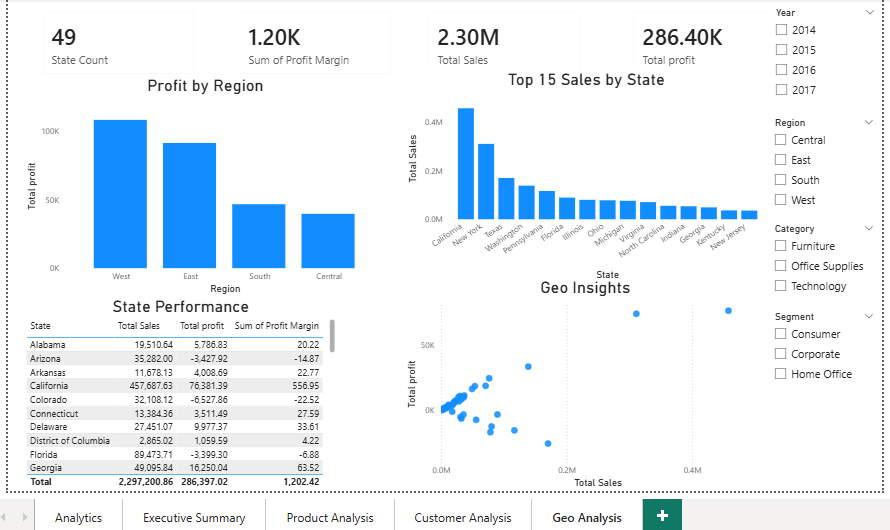

What the dashboard file says about the page in this screenshot:
{"tool":"powerbi","page":{"name":"Geo Analysis","canvas":[1280,720],"ordinal":4},"visuals":[{"type":"cardVisual","title":"Monthly Sales Trend","fields":{"Data":["Calendar.State Count"]},"box":[33.6,1.7,255.3,126],"z":0},{"type":"cardVisual","title":"Monthly Sales Trend","fields":{"Data":["Sum(powerBiNew.Profit Margin)"]},"box":[322.5,1.7,255.3,126],"z":1000},{"type":"cardVisual","title":"Monthly Sales Trend","fields":{"Data":["powerBiNew.Total Sales"]},"box":[598,1.7,255.3,126],"z":2000},{"type":"cardVisual","title":"Monthly Sales Trend","fields":{"Data":["powerBiNew.Total profit"]},"box":[898.7,1.7,255.3,126],"z":3000},{"type":"clusteredColumnChart","title":"Top 15 Sales by State","fields":{"Category":["powerBiNew.State"],"Y":["powerBiNew.Total Sales"]},"box":[579.5,104.1,534.2,312.4],"z":4000},{"type":"lineClusteredColumnComboChart","title":"Profit by Region","fields":{"Category":["powerBiNew.Region"],"Y":["powerBiNew.Total profit"]},"box":[21.8,112.5,534.2,324.2],"z":5000},{"type":"scatterChart","title":"Geo Insights","fields":{"Category":["powerBiNew.State"],"X":["powerBiNew.Total Sales"],"Y":["powerBiNew.Total profit"]},"box":[577.8,408.2,534.2,312.4],"z":6000},{"type":"tableEx","title":"State Performance","fields":{"Values":["powerBiNew.State","powerBiNew.Total Sales","powerBiNew.Total profit","Sum(powerBiNew.Profit Margin)"]},"box":[21.8,436.7,461.9,283.9],"z":7000},{"type":"slicer","fields":{"Values":["Calendar.Year"]},"box":[1110.7,7.3,169.8,267.8],"z":8000},{"type":"slicer","fields":{"Values":["powerBiNew.Region"]},"box":[1108.7,168,169.7,268.8],"z":9000},{"type":"slicer","fields":{"Values":["powerBiNew.Category"]},"box":[1109.3,323.4,169.8,267.8],"z":10000},{"type":"slicer","fields":{"Values":["powerBiNew.Segment"]},"box":[1109.3,452.2,169.8,267.8],"z":10001}]}

Visuals, with their boxes on the page's 1280x720 design canvas (x1, y1, x2, y2). These are canvas units, not pixel positions in the 890x530 screenshot, which may show the page scaled, cropped or inside an application window:
"Monthly Sales Trend" cardVisual: locate(34, 2, 289, 128)
"Monthly Sales Trend" cardVisual: locate(322, 2, 578, 128)
"Monthly Sales Trend" cardVisual: locate(598, 2, 853, 128)
"Monthly Sales Trend" cardVisual: locate(899, 2, 1154, 128)
"Top 15 Sales by State" clusteredColumnChart: locate(580, 104, 1114, 416)
"Profit by Region" lineClusteredColumnComboChart: locate(22, 112, 556, 437)
"Geo Insights" scatterChart: locate(578, 408, 1112, 721)
"State Performance" tableEx: locate(22, 437, 484, 721)
slicer - Calendar.Year: locate(1111, 7, 1280, 275)
slicer - powerBiNew.Region: locate(1109, 168, 1278, 437)
slicer - powerBiNew.Category: locate(1109, 323, 1279, 591)
slicer - powerBiNew.Segment: locate(1109, 452, 1279, 720)
